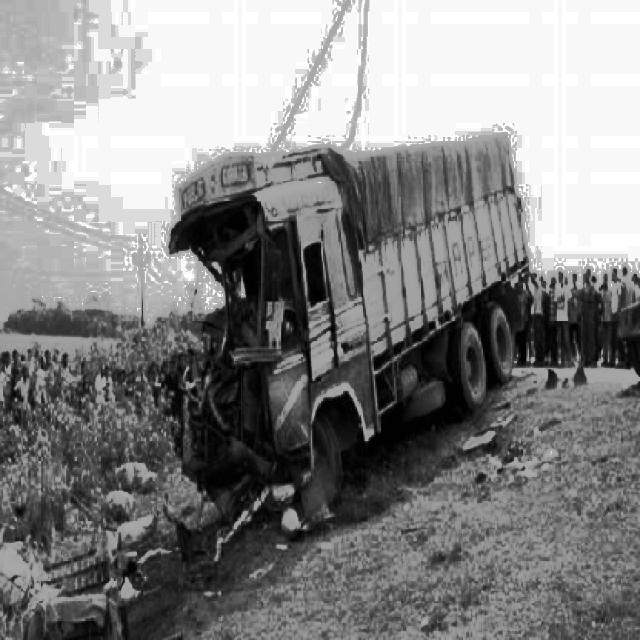HCV: (177, 202, 557, 443)
